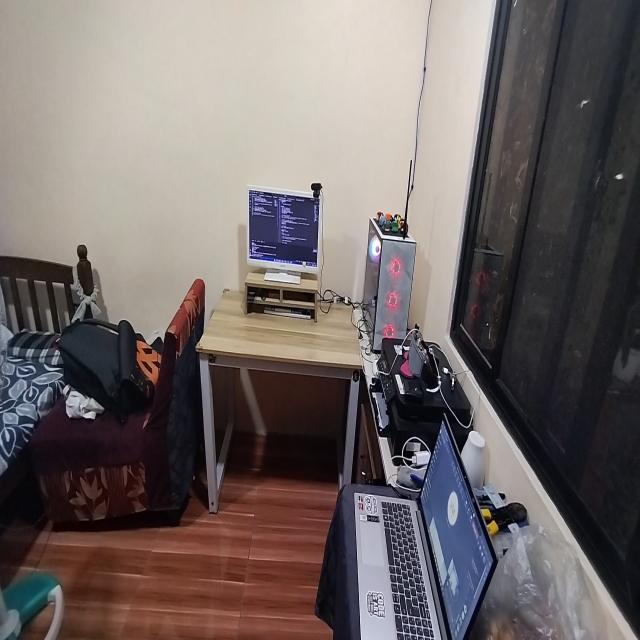table: (194, 274, 368, 519)
